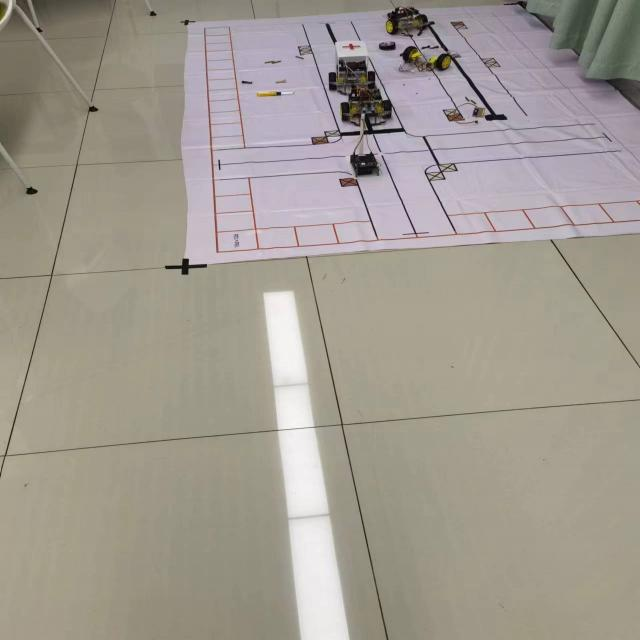RedCross: (341, 42, 362, 52)
